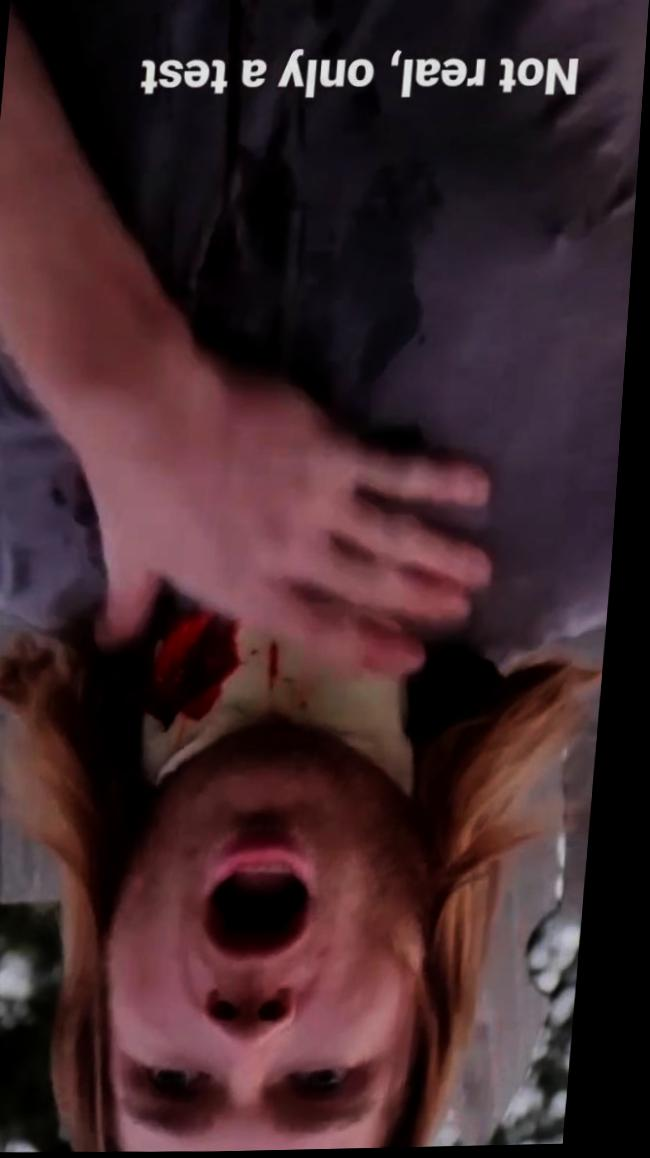Fire: (153, 613, 249, 730), (248, 631, 289, 713)
